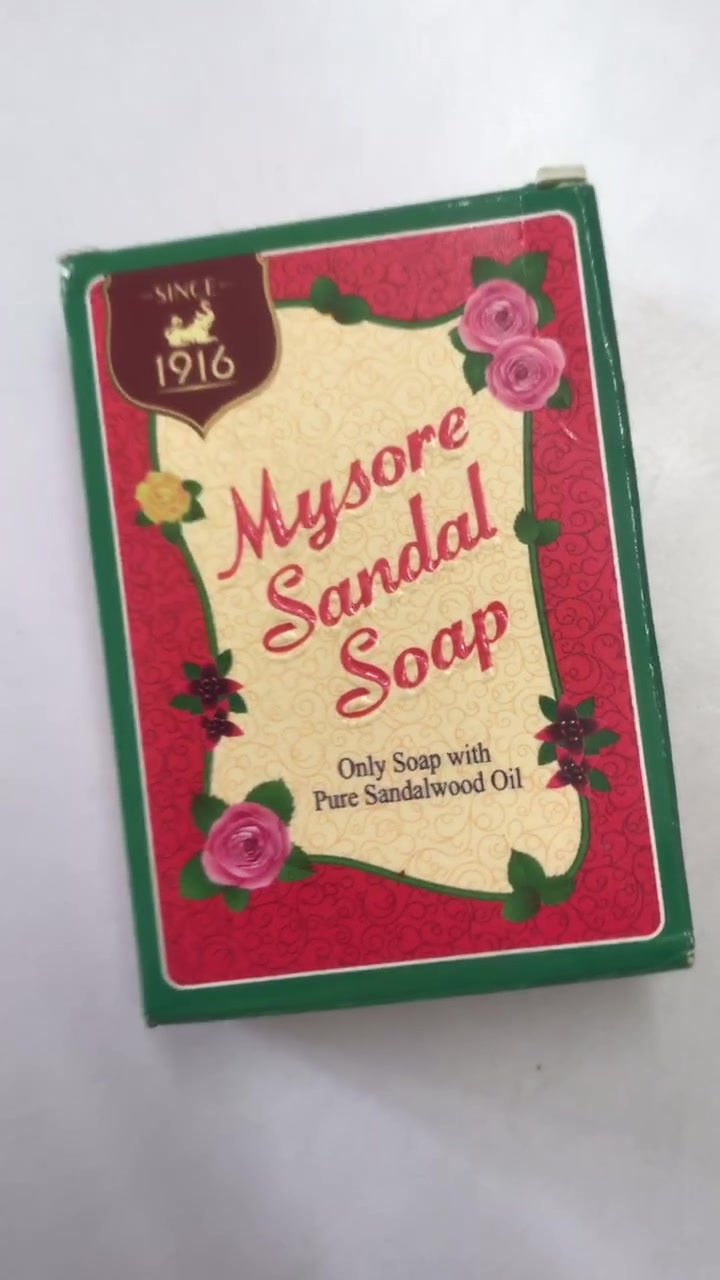mysore sandal soap: (88, 271, 669, 977)
